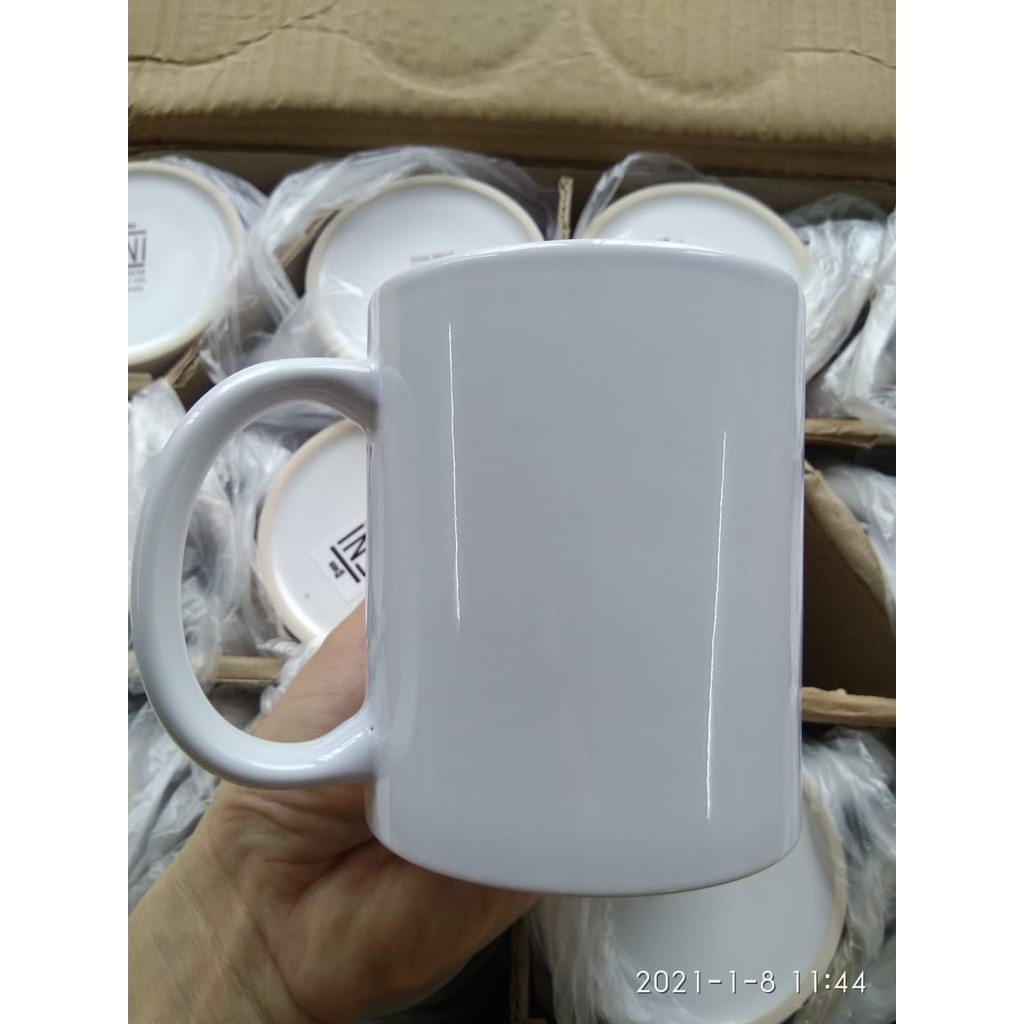gelas: (136, 226, 819, 891)
